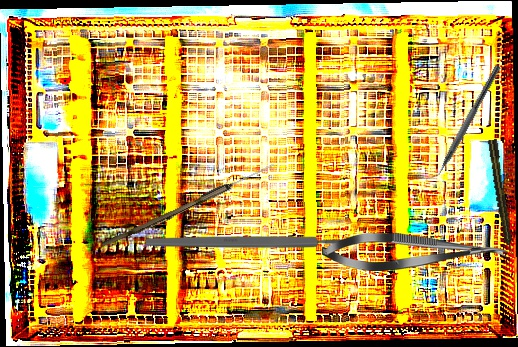Chopper: (424, 59, 502, 188)
Handpiece: (486, 138, 517, 257)
Micro Scissor: (322, 233, 508, 271)
Scalpel Handle: (146, 236, 351, 248)
Surgical Spoon: (101, 160, 276, 251)
